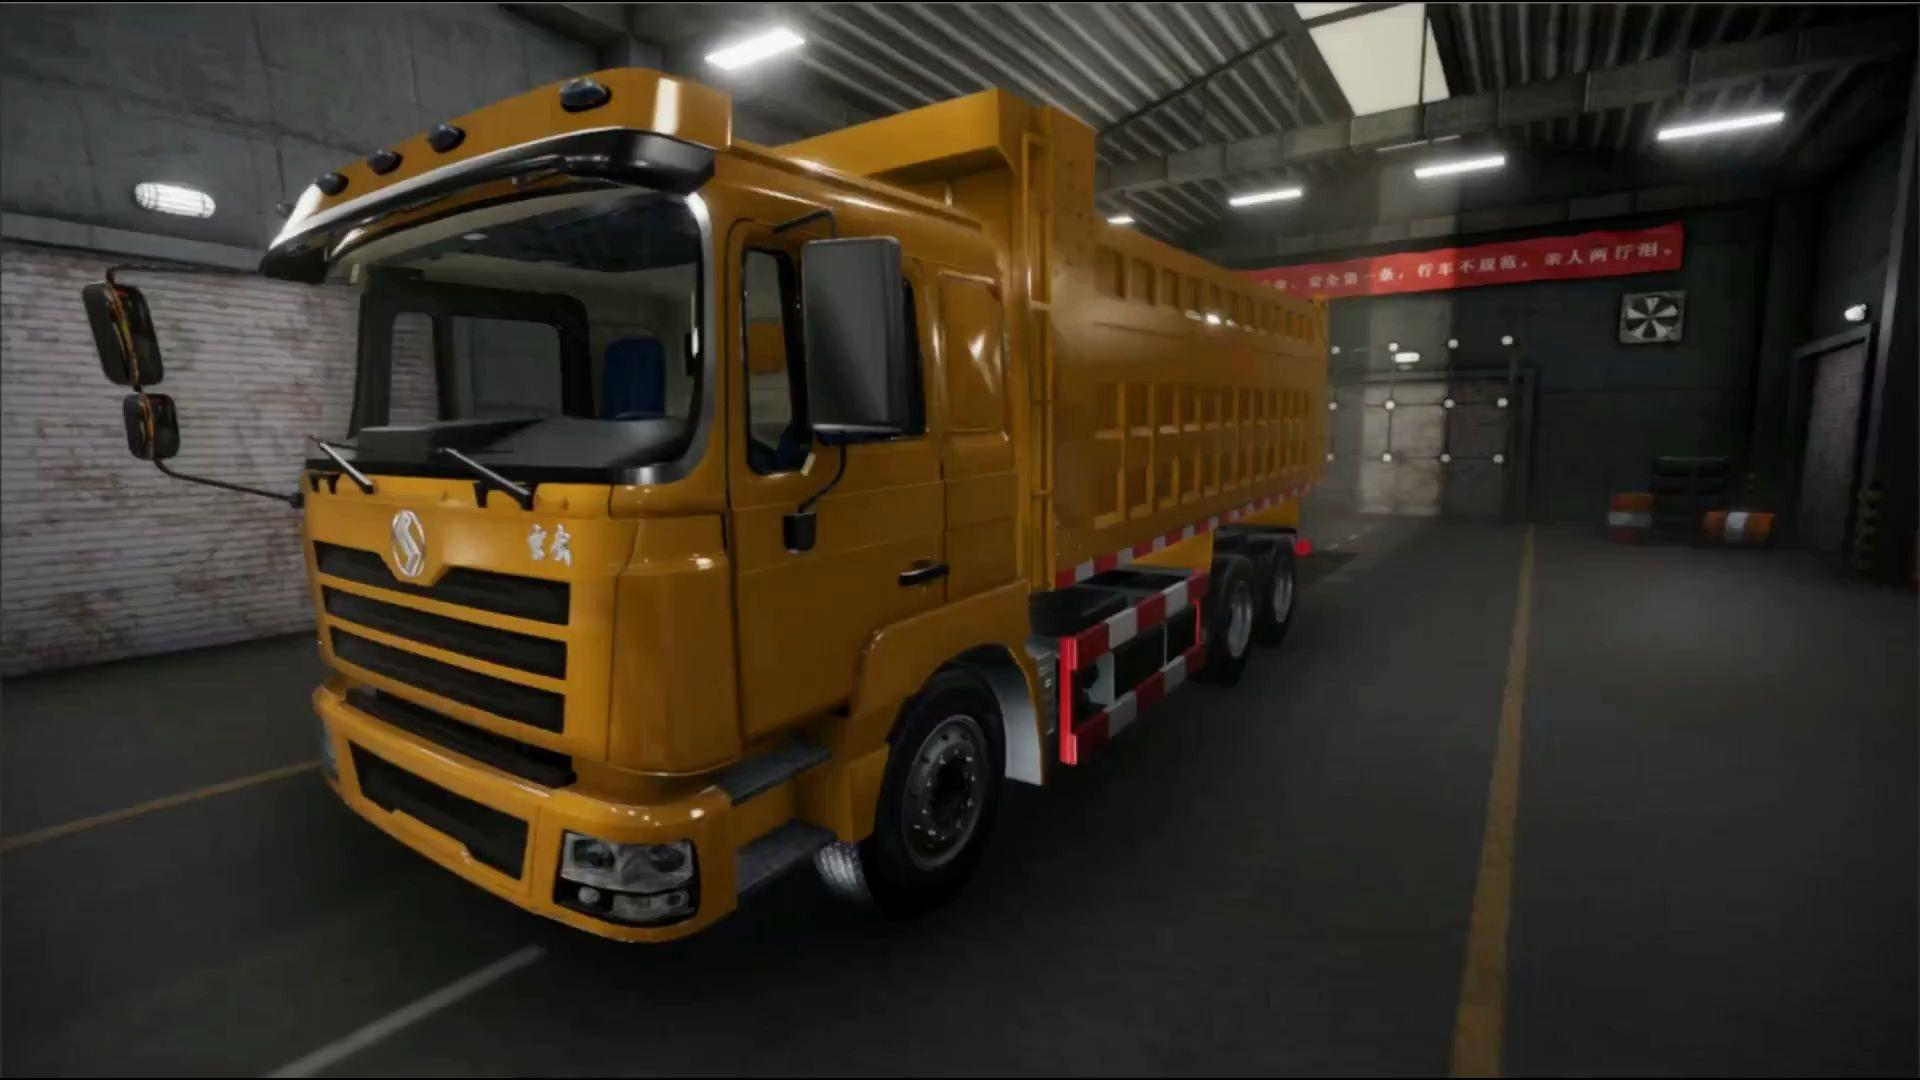truck: (171, 25, 1378, 956)
